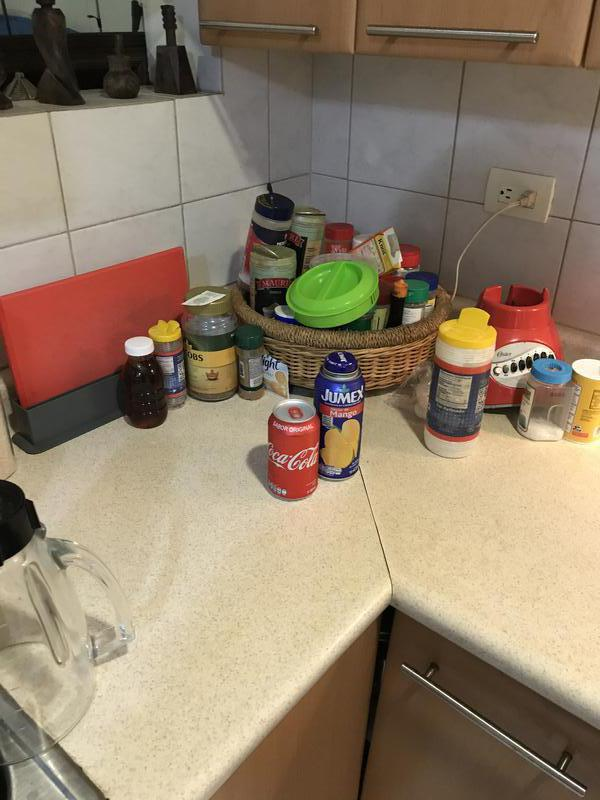coca_cola: (266, 400, 319, 500)
jugo_jumex: (312, 353, 365, 480)
